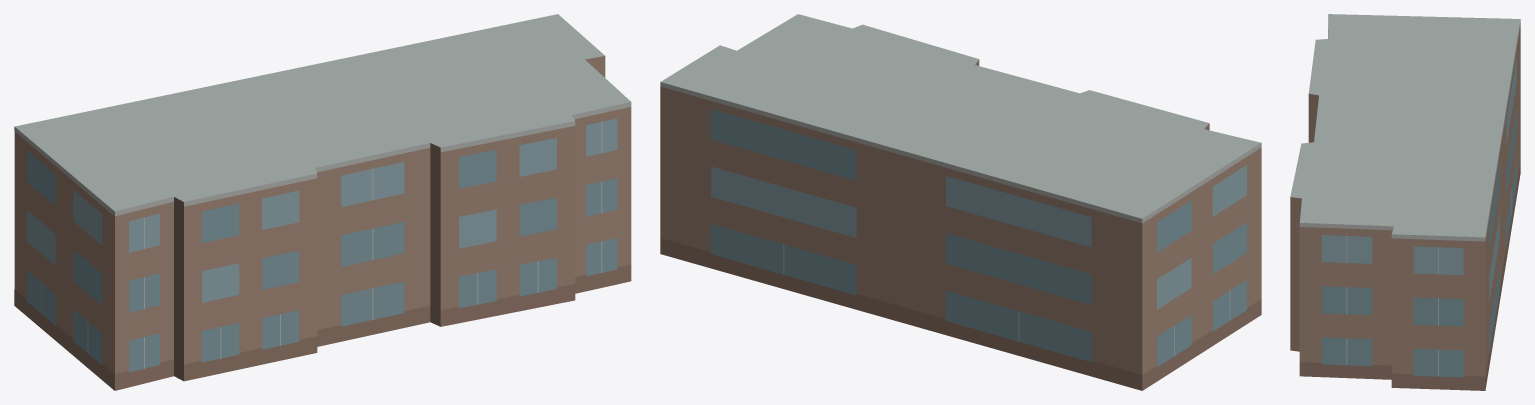
File: survey-upis-32682305.glb
3 renders of one model, left to right at view 1: azimuth 30°, elevation 25°; view 2: azimuth 150°, elevation 25°; view 3: azimuth 270°, elevation 25°, orthographic. The views are drawn at different scales.
Visible parts, largest first — view 1: survey-upis-32682305.tmp; view 2: survey-upis-32682305.tmp; view 3: survey-upis-32682305.tmp.
Boxes of the visible parts, bbox=[...] form: survey-upis-32682305.tmp: bbox=[14, 14, 631, 390]; survey-upis-32682305.tmp: bbox=[660, 14, 1261, 390]; survey-upis-32682305.tmp: bbox=[1290, 14, 1520, 390].
Size of the model in its own units: 28.57 by 9.15 by 12.46.
